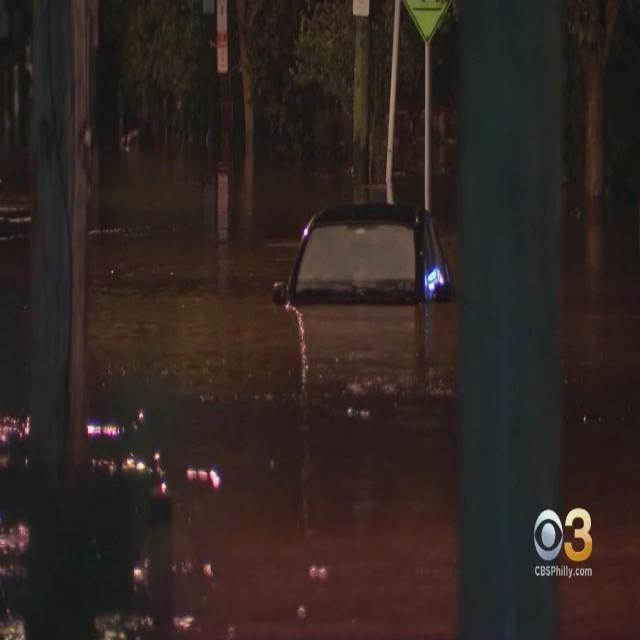water: (1, 229, 459, 638), (553, 245, 637, 637)
